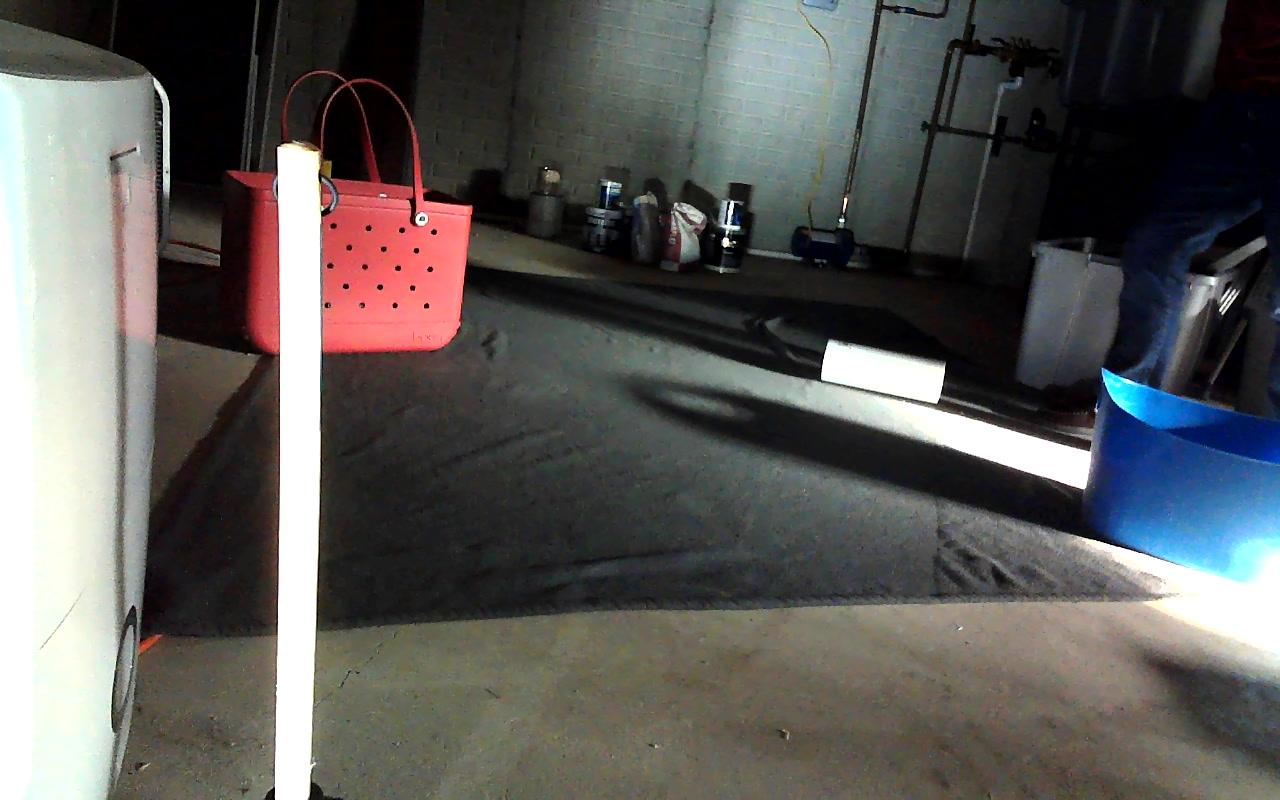coral: (820, 341, 944, 407)
